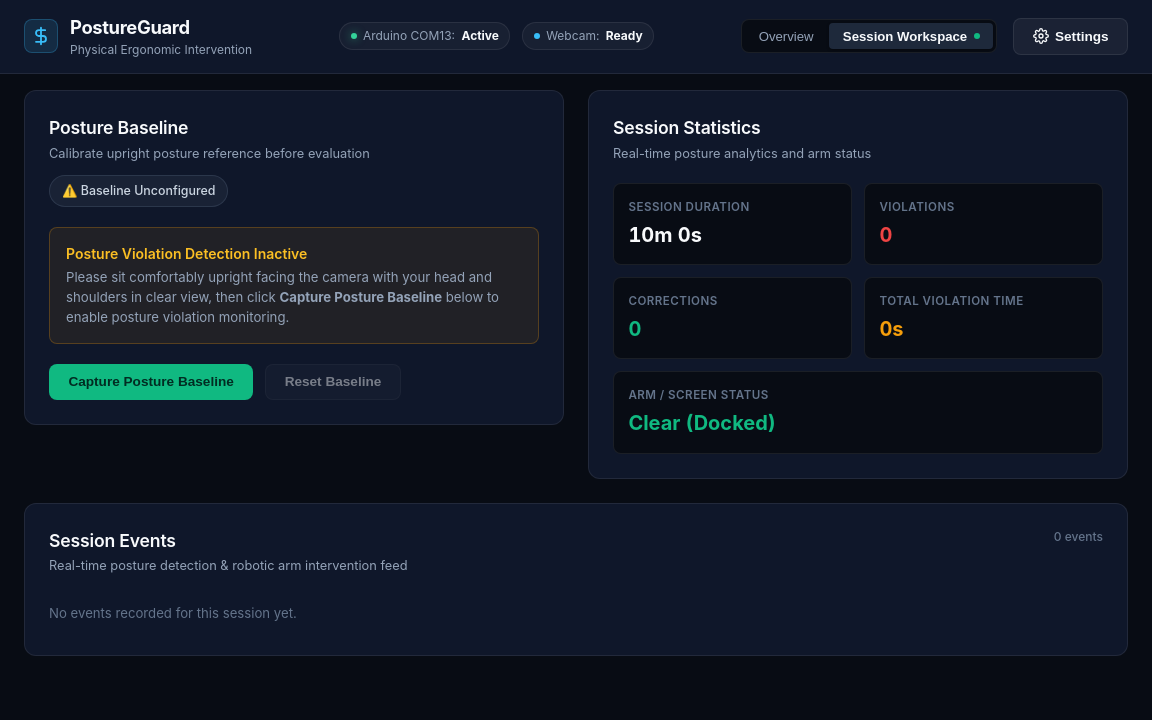
Baseline Management › shows error banner when capture baseline fails
The width and height of the screenshot is (1152, 720).
(page scrolled)
Click the button "Capture Posture Baseline".
click(151, 382)  # box [49,364,253,400]
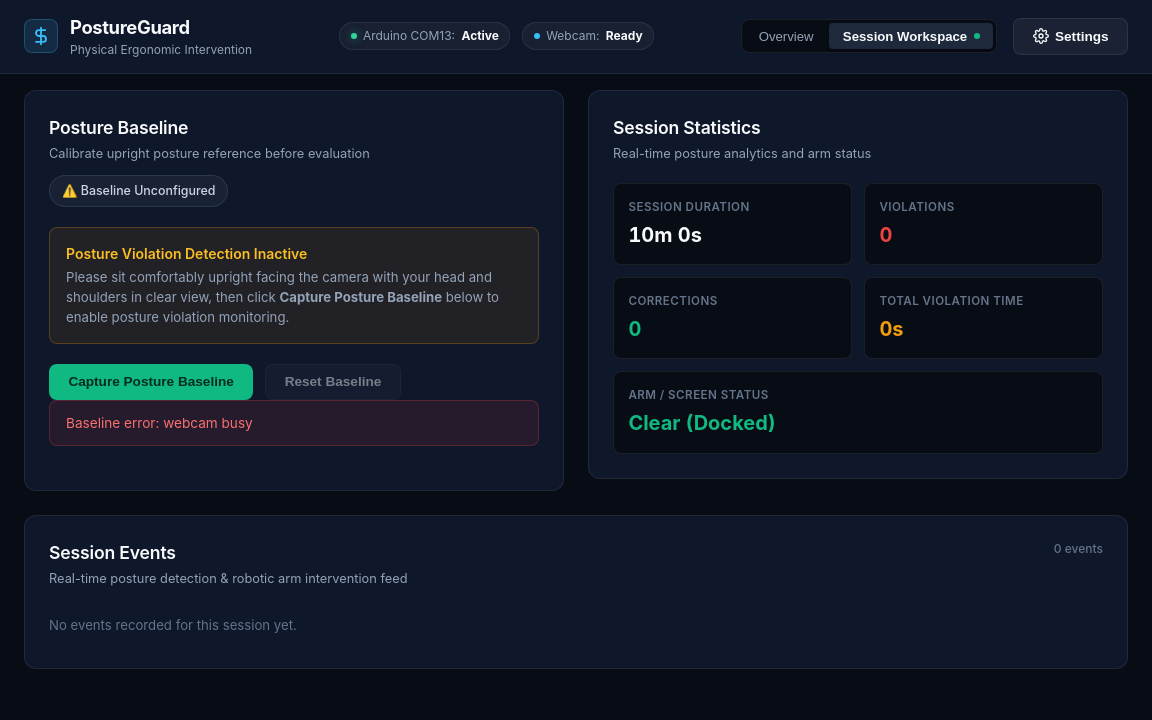
Check: the message reads "Baseline error: webcam busy", box [49,400,539,446]
